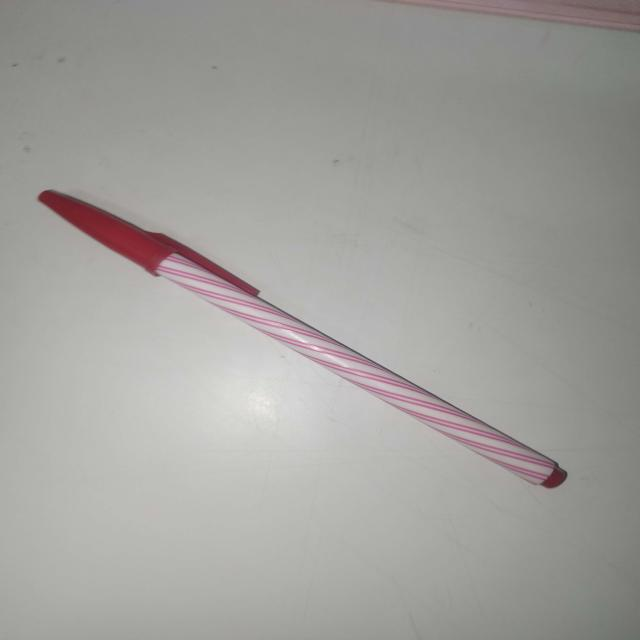pen_pencil: (18, 147, 640, 555)
